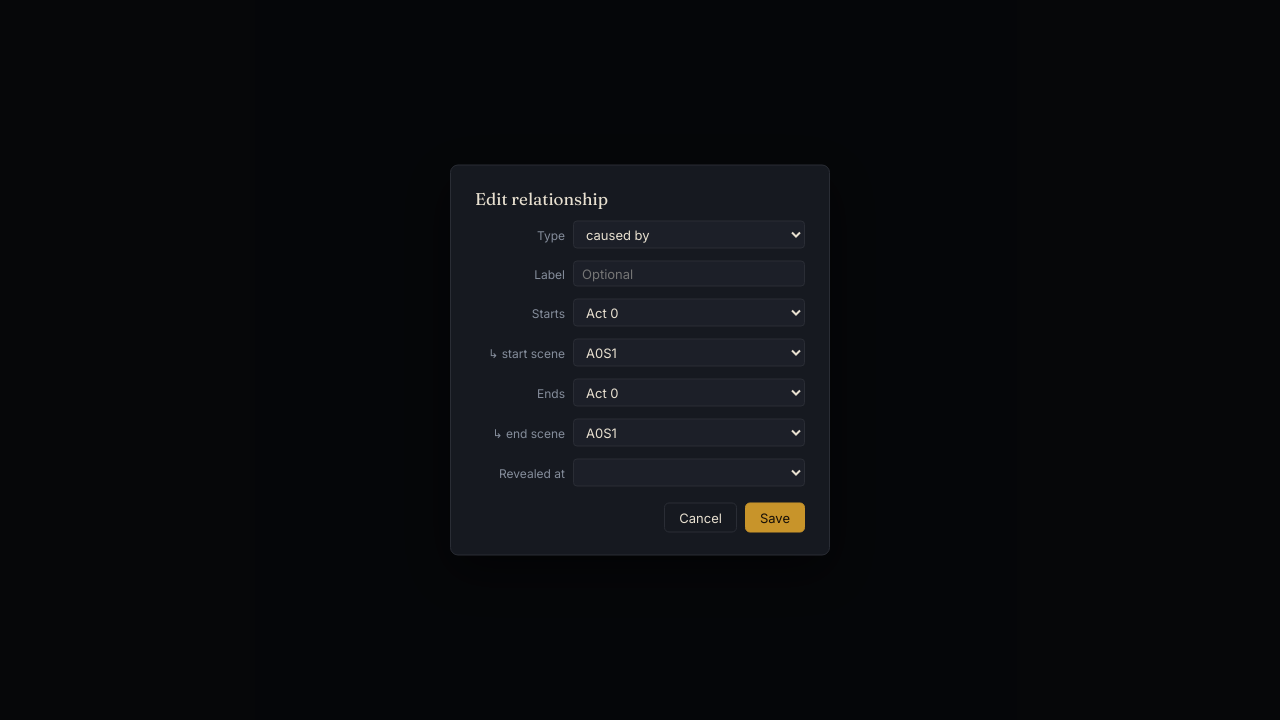
Test: EditRelationshipModal — scene scope (Slice 5 PR-B) › changing the start act clears the previously chosen scene
The image size is (1280, 720).
Select "Act 1" in the dropdown labelled "Starts" at (689, 312), box [573,298,805,326]
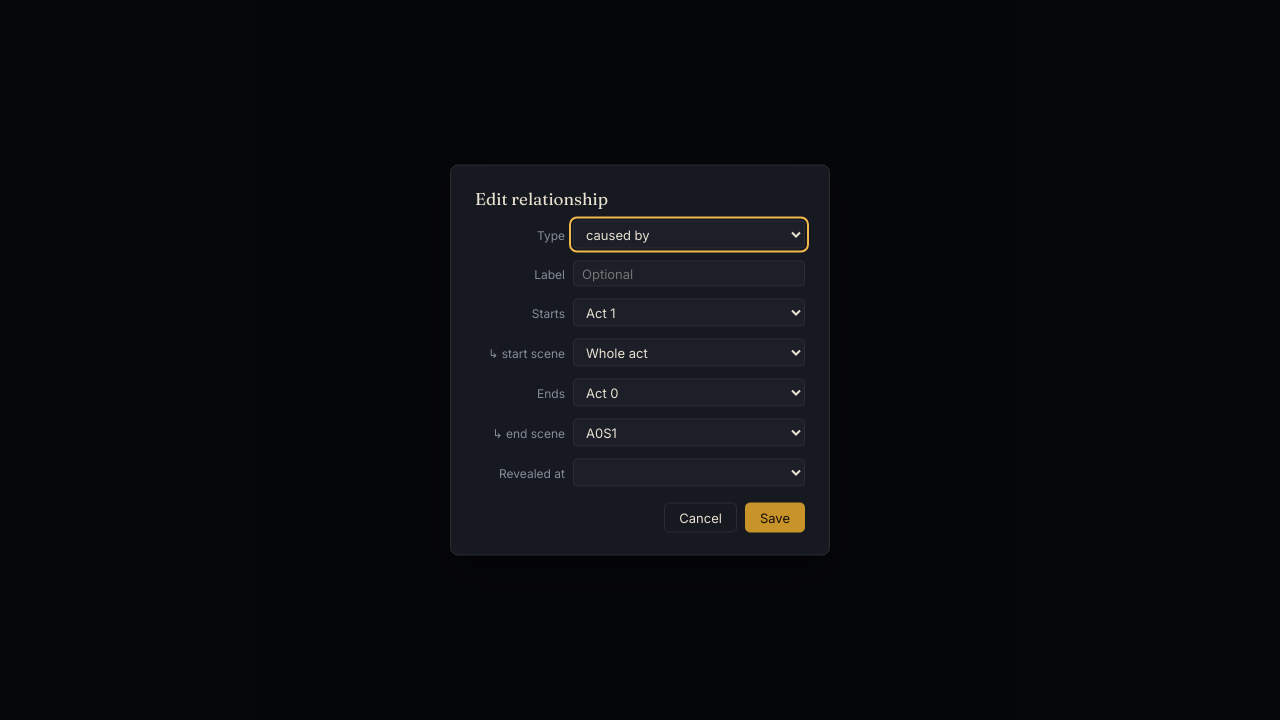
Result: the dropdown labelled "↳ start scene" shows "Whole act" at [573,338,805,366]
